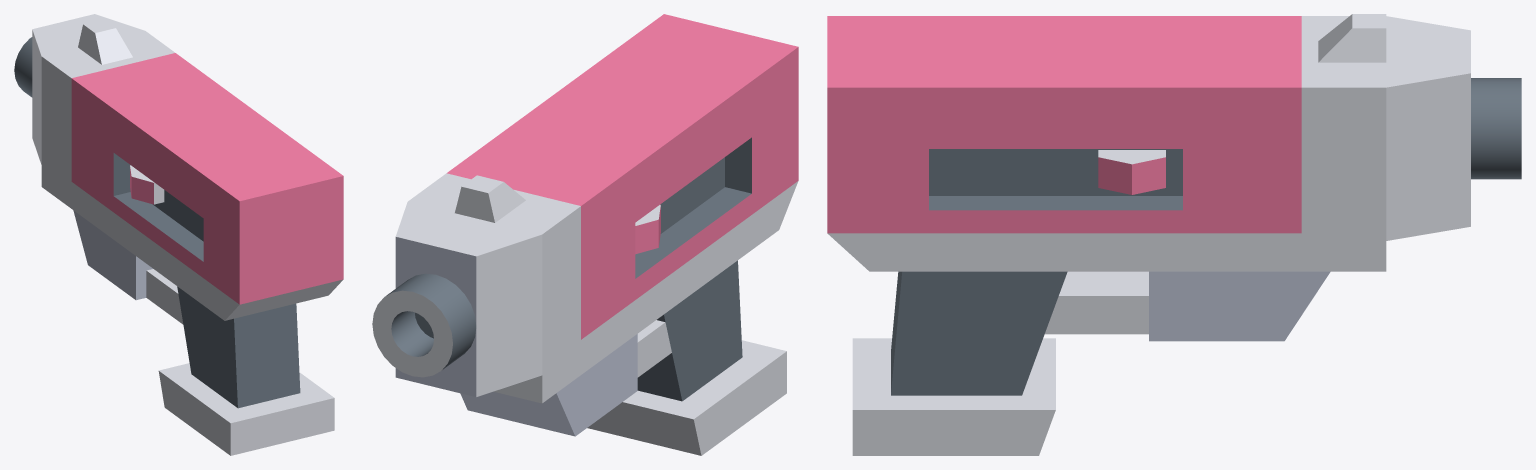
Rendered from BlastPistolModel.fbx.
3 views of the same model, side by side, from view 1: azimuth 30°, elevation 25°; view 2: azimuth 150°, elevation 25°; view 3: azimuth 270°, elevation 25° (orthographic). The views are drawn at different scales.
Parts seen in each view (by area): view 1: blasterB; view 2: blasterB; view 3: blasterB.
Part boxes in pixels (x1,y1,x2,y2): blasterB: [14, 14, 343, 455]; blasterB: [372, 14, 798, 455]; blasterB: [827, 14, 1521, 455].
Bounding box in the file's own units: 10 × 26 × 41.
